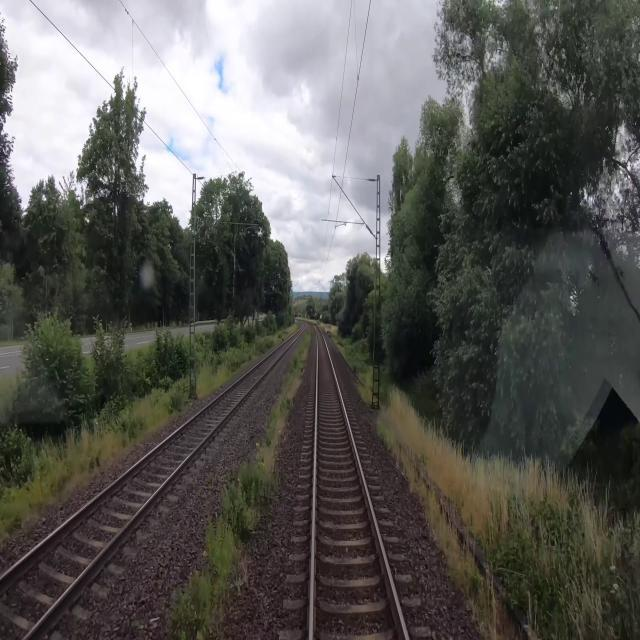Plant: (168, 329, 311, 639), (376, 410, 529, 639), (356, 380, 373, 404), (205, 471, 217, 487)
